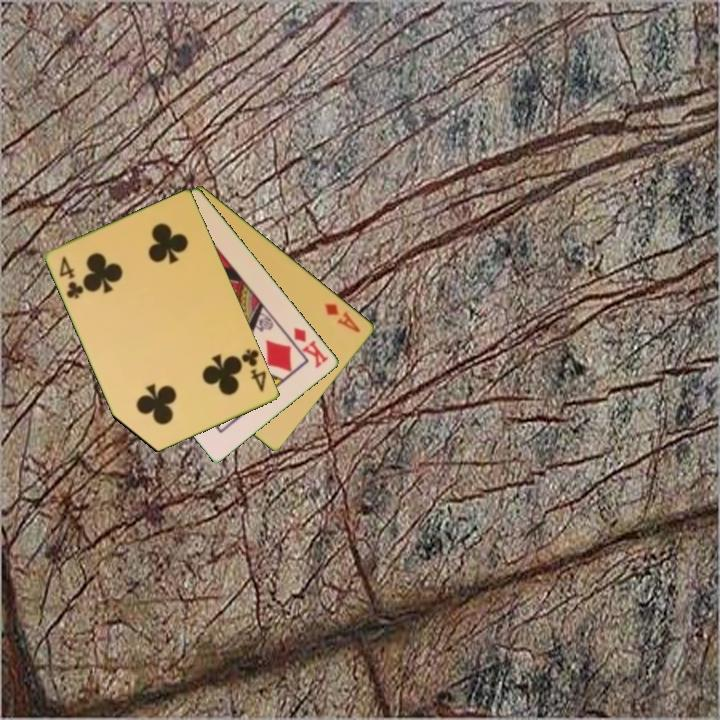4c: (238, 345, 270, 395), (56, 252, 87, 302)
Ad: (322, 299, 363, 336)
Kd: (290, 324, 332, 371)
